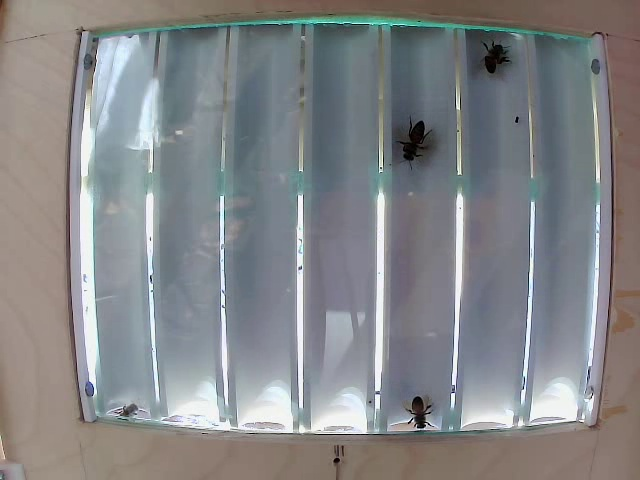bee: (402, 111, 432, 166), (475, 41, 504, 85)
